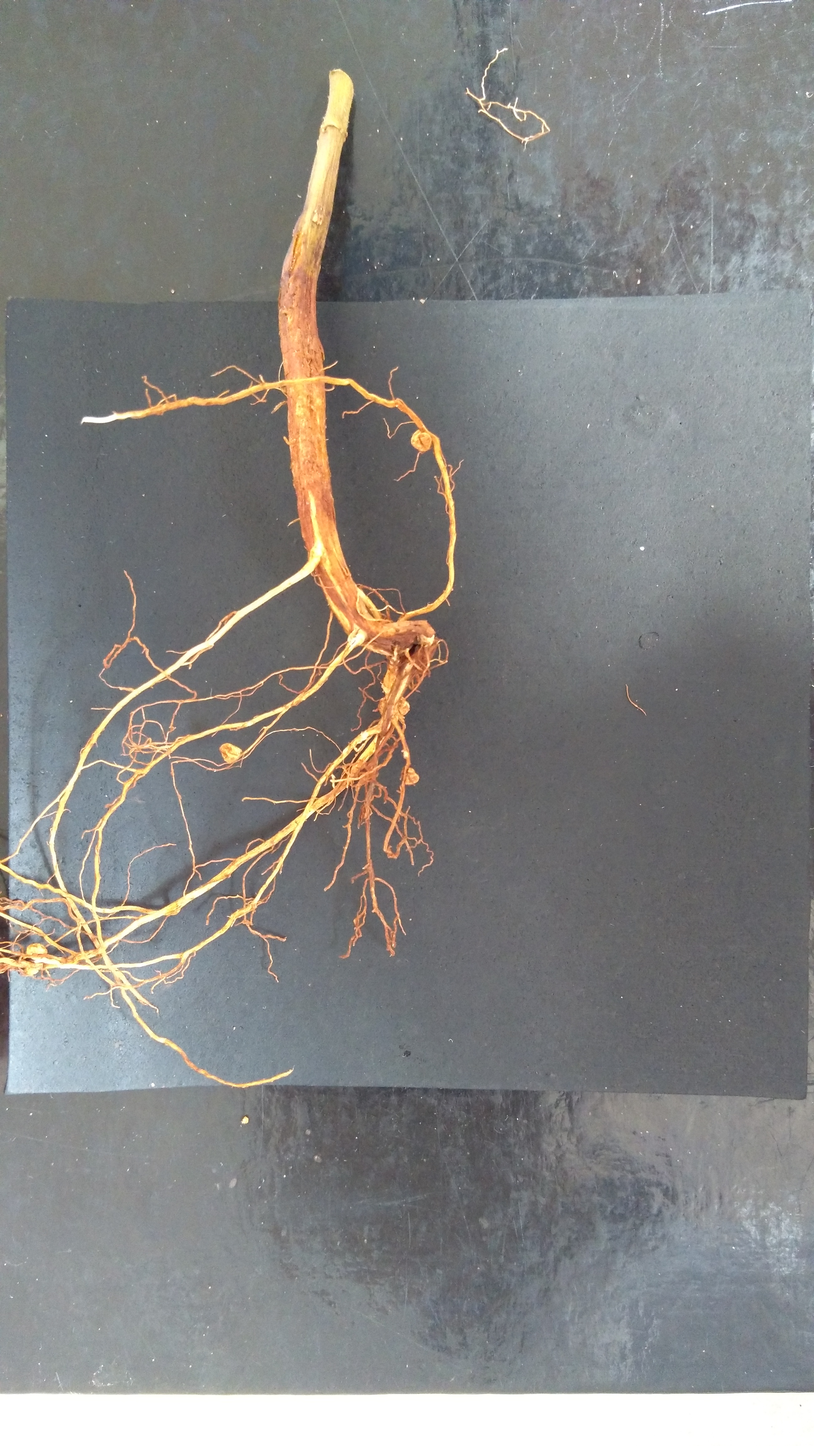nodule: (376, 694, 411, 718), (409, 428, 434, 455), (218, 741, 243, 766), (25, 941, 49, 957), (404, 766, 421, 787), (23, 965, 41, 978)
